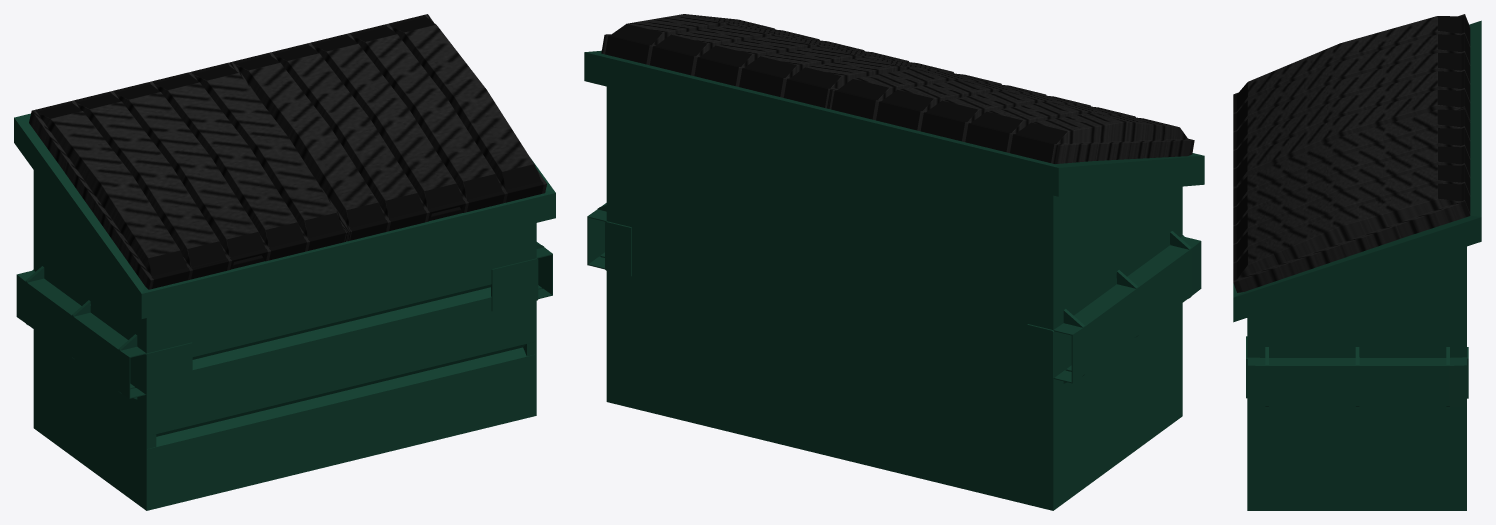
The model's file is BoteBasura.obj.
The picture shows the model from 3 angles, left to right: view 1: azimuth 30°, elevation 25°; view 2: azimuth 150°, elevation 25°; view 3: azimuth 270°, elevation 25°; orthographic projection. The views are drawn at different scales.
Visible parts, largest first — view 1: polySurface11 uploads_files_3491662_Dumpster:Mesh, uploads_files_3491662_Dumpster:Mesh polySurface3, uploads_files_3491662_Dumpster:Mesh polySurface2, uploads_files_3491662_Dumpster:Mesh polySurface6, uploads_files_3491662_Dumpster:Mesh polySurface8; view 2: uploads_files_3491662_Dumpster:Mesh polySurface2, polySurface11 uploads_files_3491662_Dumpster:Mesh, uploads_files_3491662_Dumpster:Mesh polySurface6, uploads_files_3491662_Dumpster:Mesh polySurface8; view 3: polySurface11 uploads_files_3491662_Dumpster:Mesh, uploads_files_3491662_Dumpster:Mesh polySurface2, uploads_files_3491662_Dumpster:Mesh polySurface8.
Boxes of the visible parts, x1,y1,x2,y2 form: polySurface11 uploads_files_3491662_Dumpster:Mesh: [29, 14, 546, 289]; uploads_files_3491662_Dumpster:Mesh polySurface3: [147, 223, 534, 510]; uploads_files_3491662_Dumpster:Mesh polySurface2: [14, 113, 555, 510]; uploads_files_3491662_Dumpster:Mesh polySurface6: [16, 266, 192, 399]; uploads_files_3491662_Dumpster:Mesh polySurface8: [491, 242, 552, 311]; uploads_files_3491662_Dumpster:Mesh polySurface2: [584, 50, 1204, 510]; polySurface11 uploads_files_3491662_Dumpster:Mesh: [601, 14, 1194, 163]; uploads_files_3491662_Dumpster:Mesh polySurface6: [1027, 231, 1201, 383]; uploads_files_3491662_Dumpster:Mesh polySurface8: [587, 203, 631, 276]; polySurface11 uploads_files_3491662_Dumpster:Mesh: [1233, 14, 1470, 292]; uploads_files_3491662_Dumpster:Mesh polySurface2: [1233, 20, 1481, 510]; uploads_files_3491662_Dumpster:Mesh polySurface8: [1246, 336, 1468, 409].
Bounding box in the file's own units: 4.35 × 3.14 × 2.27.
Materials: 2 (2 with a texture image).
